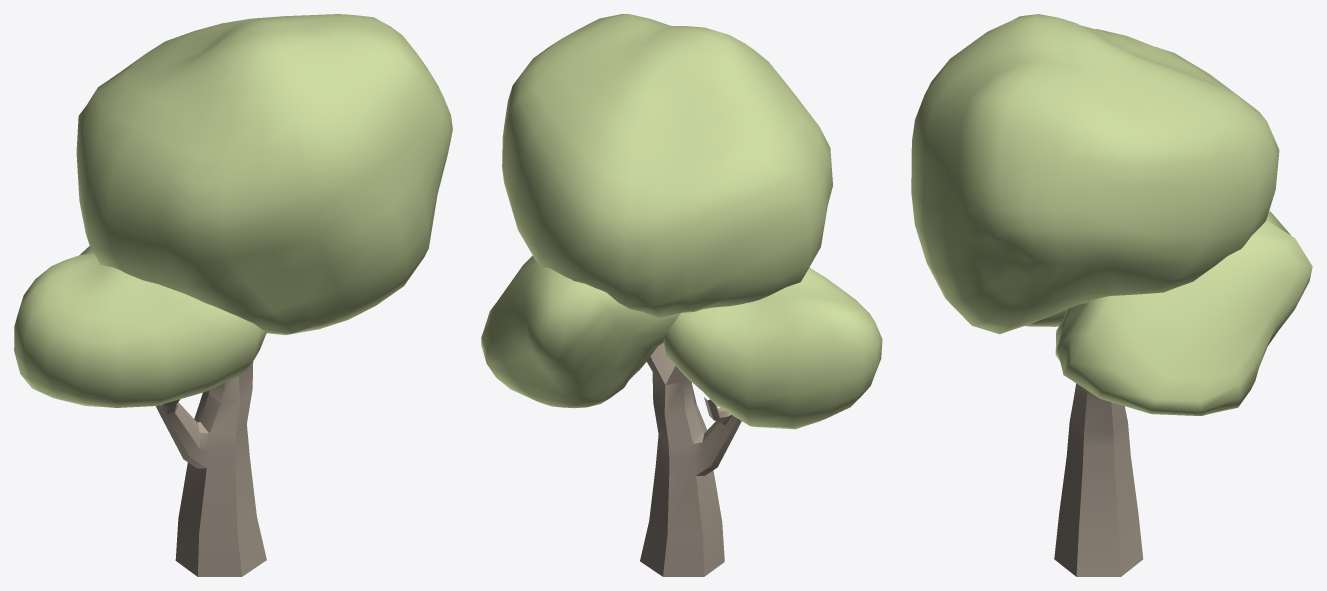
The model's file is tree-deciduous.glb.
The picture shows the model from 3 angles, left to right: view 1: azimuth 30°, elevation 25°; view 2: azimuth 150°, elevation 25°; view 3: azimuth 270°, elevation 25°; orthographic projection. The views are drawn at different scales.
Visible parts, largest first — view 1: Cube 2, Cube 3, Cylinder; view 2: Cube 2, Cube 3, Cube 4, Cylinder; view 3: Cube 2, Cube 4, Cylinder.
Part boxes in pixels (x1=…): Cube 2: x1=76, y1=14, x2=452, y2=335; Cube 3: x1=14, y1=246, x2=266, y2=407; Cylinder: x1=156, y1=361, x2=266, y2=576; Cube 2: x1=502, y1=14, x2=832, y2=317; Cube 3: x1=663, y1=267, x2=882, y2=429; Cube 4: x1=481, y1=255, x2=680, y2=408; Cylinder: x1=640, y1=343, x2=741, y2=576; Cube 2: x1=911, y1=14, x2=1279, y2=334; Cube 4: x1=1055, y1=211, x2=1312, y2=415; Cylinder: x1=1054, y1=383, x2=1143, y2=576.
Bounding box in the file's own units: 8.26 × 10.77 × 7.19.
